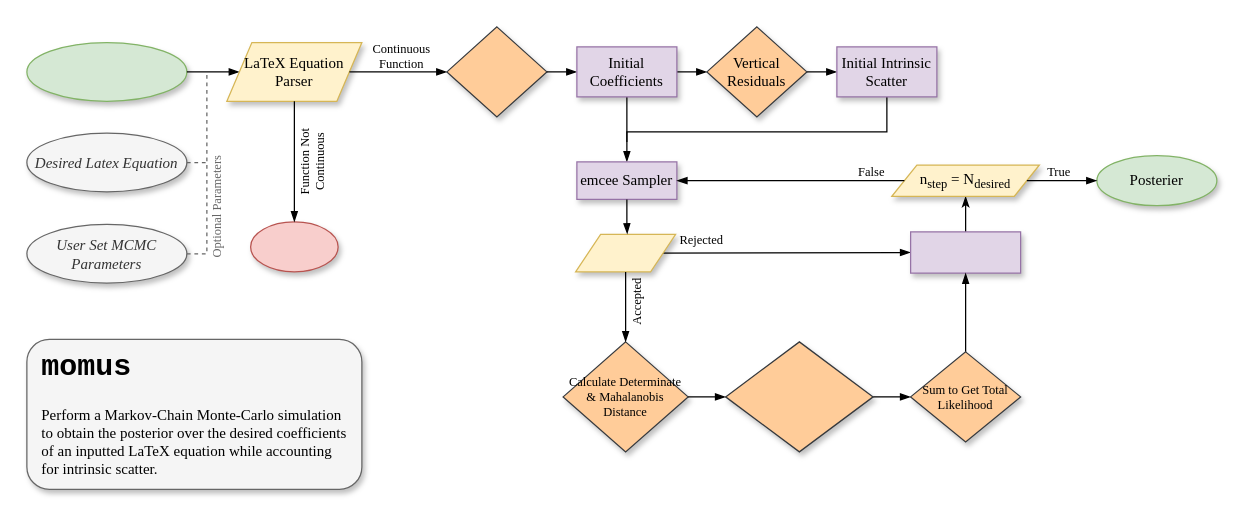
This 1246x520 diagram has some shape labels left out. Each missing label, with the centre of its shape:
"Calculate Gauss-Legrendre Quadrature Moments" goes at pixel 800 398.
"Input Observed x and y Lists" goes at pixel 107 73.
"Least Squares Fit" goes at pixel 497 73.
"n step = n step + 1" goes at pixel 966 254.
"Prior" goes at pixel 626 254.
"Return Error" goes at pixel 295 248.
